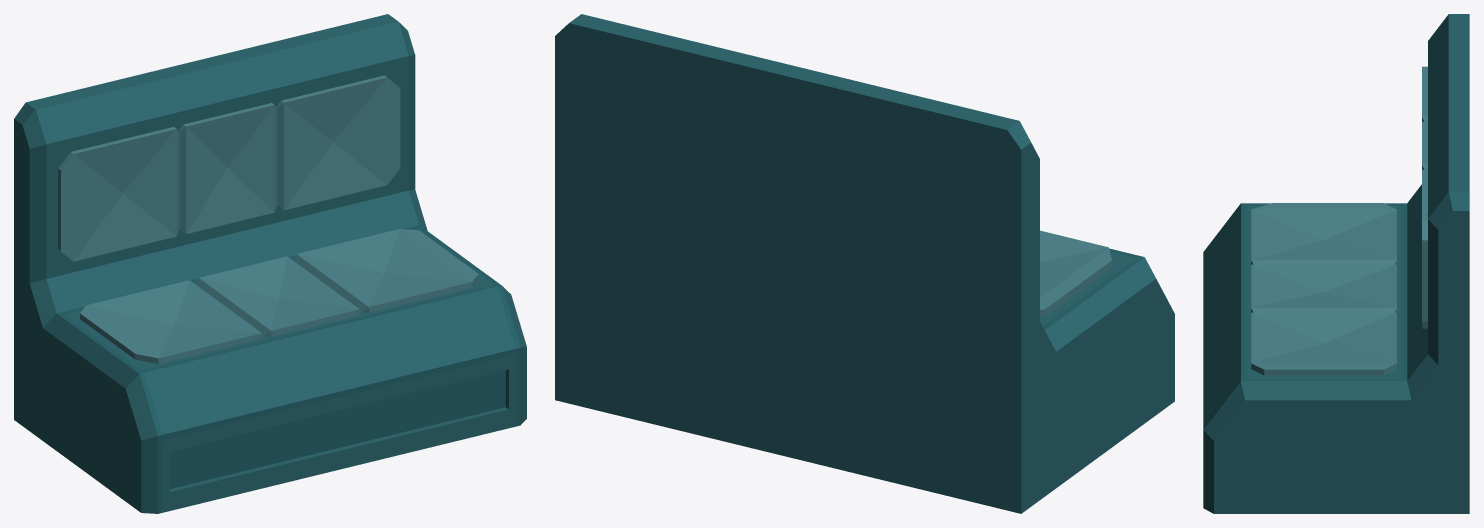
The model's file is SM_Props_Furniture_11.fbx.
3 views of the same model, side by side, from view 1: azimuth 30°, elevation 25°; view 2: azimuth 150°, elevation 25°; view 3: azimuth 270°, elevation 25° (orthographic). The views are drawn at different scales.
Parts seen in each view (by area): view 1: SM_Props_Furniture_11; view 2: SM_Props_Furniture_11; view 3: SM_Props_Furniture_11.
Part boxes in pixels (x1,y1,x2,y2): SM_Props_Furniture_11: [14, 14, 526, 513]; SM_Props_Furniture_11: [555, 14, 1174, 513]; SM_Props_Furniture_11: [1203, 14, 1469, 513].
Bounding box in the file's own units: 1.5 × 1.17 × 0.8913.
